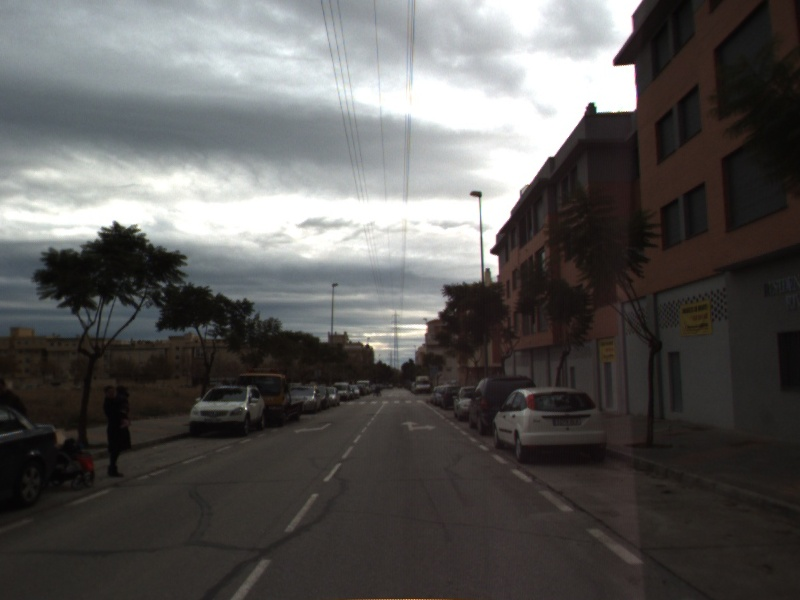STRAIGHT_RIGHT: (399, 419, 438, 433)
